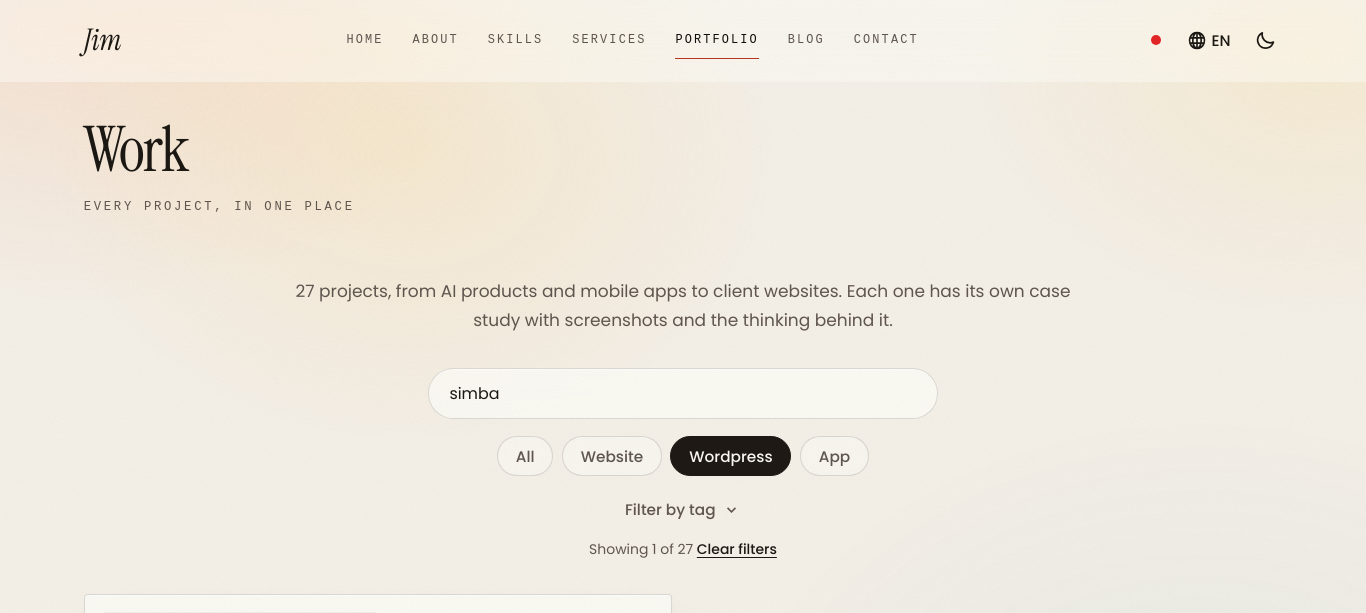
Test: WorkIndex filtering › clears every filter at once
This screenshot has width=1366, height=613.
Click the button "Clear filters": (737, 549) 697,539 -> 777,560
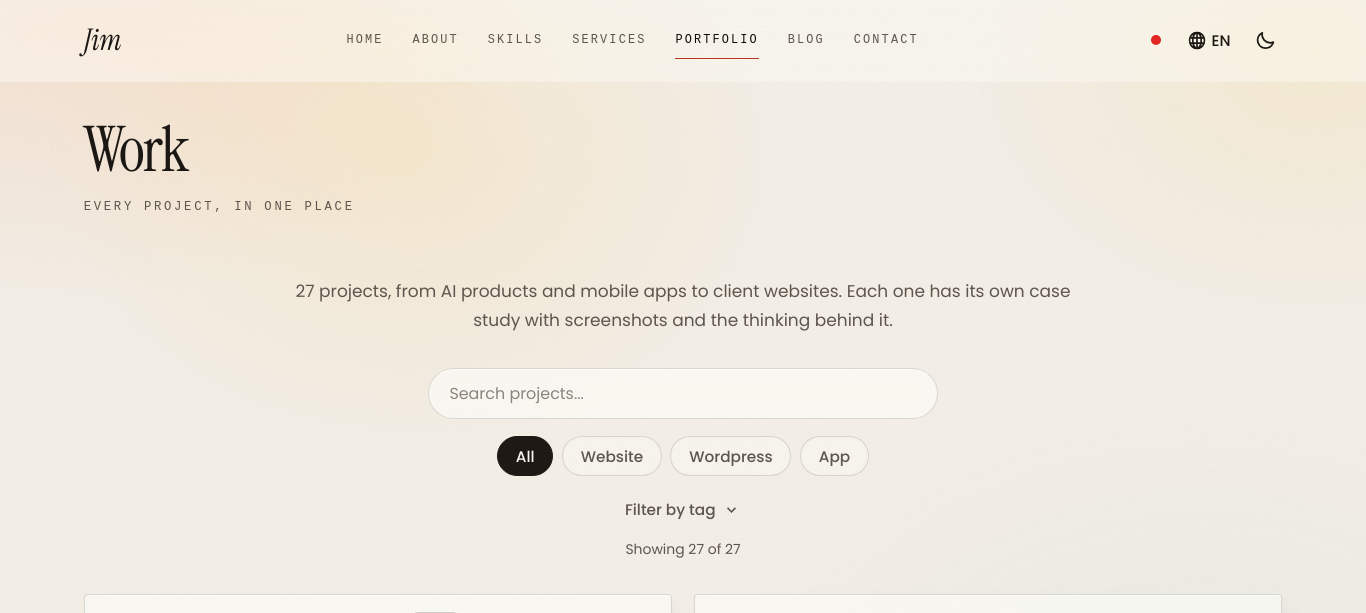
Check: the number of list items with class "workindex__item" is 27
